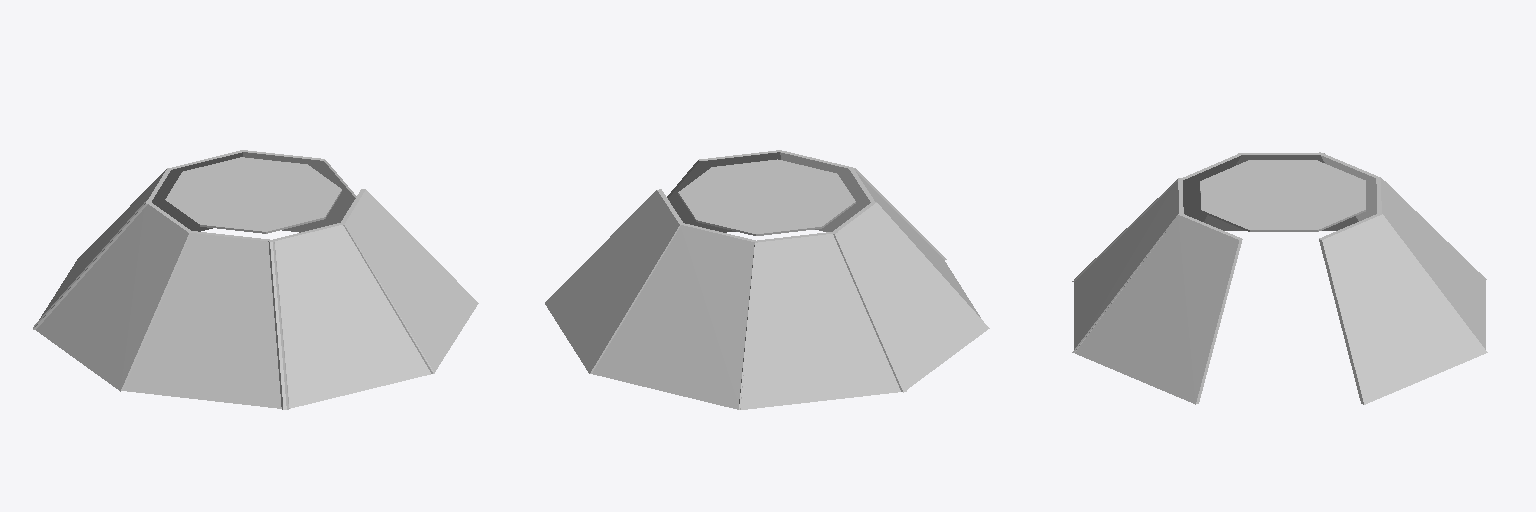
The model's file is ufoGlass.obj.
The picture shows the model from 3 angles: view 1: azimuth 30°, elevation 25°; view 2: azimuth 150°, elevation 25°; view 3: azimuth 270°, elevation 25°; orthographic projection.
Visible parts, largest first — view 1: g2, g3, g1, g4, gtop, g8, g6, g7; view 2: g8, g7, g1, g6, gtop, g3, g4, g2; view 3: g6, g4, gtop, g7, g3, g2, g1, g8.
Boxes of the visible parts, x1=… form: g2: x1=123, y1=231, x2=289, y2=409; g3: x1=268, y1=223, x2=434, y2=409; g1: x1=33, y1=201, x2=191, y2=391; g4: x1=340, y1=189, x2=478, y2=373; gtop: x1=165, y1=157, x2=341, y2=233; g8: x1=33, y1=168, x2=170, y2=329; g6: x1=241, y1=150, x2=356, y2=232; g7: x1=152, y1=150, x2=242, y2=231; g8: x1=739, y1=231, x2=906, y2=409; g7: x1=592, y1=223, x2=756, y2=409; g1: x1=831, y1=201, x2=989, y2=392; g6: x1=545, y1=189, x2=682, y2=373; gtop: x1=678, y1=159, x2=855, y2=235; g3: x1=780, y1=150, x2=946, y2=259; g4: x1=667, y1=150, x2=781, y2=232; g2: x1=848, y1=167, x2=980, y2=317; g6: x1=1319, y1=213, x2=1487, y2=404; g4: x1=1072, y1=214, x2=1242, y2=404; gtop: x1=1200, y1=160, x2=1365, y2=231; g7: x1=1376, y1=178, x2=1485, y2=349; g3: x1=1074, y1=178, x2=1183, y2=352; g2: x1=1072, y1=154, x2=1240, y2=281; g1: x1=1204, y1=153, x2=1358, y2=230; g8: x1=1319, y1=152, x2=1486, y2=279.
Bounding box in the file's own units: 7.2 × 2.29 × 7.14.